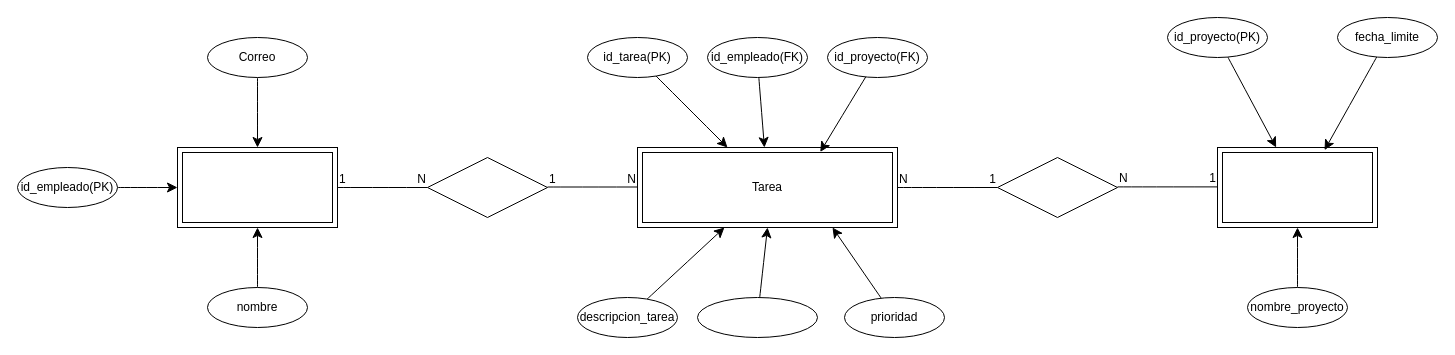
Image size: 1455x355. Some labels were removed from this diagram. The box of each missing label's shape, as (x1, y1, x2, y2) in pixels:
Empleado: (176, 146, 338, 228)
fecha_entrega: (696, 296, 818, 338)
Hace: (426, 156, 548, 218)
incluye: (996, 156, 1118, 218)
proyecto: (1216, 146, 1378, 228)
